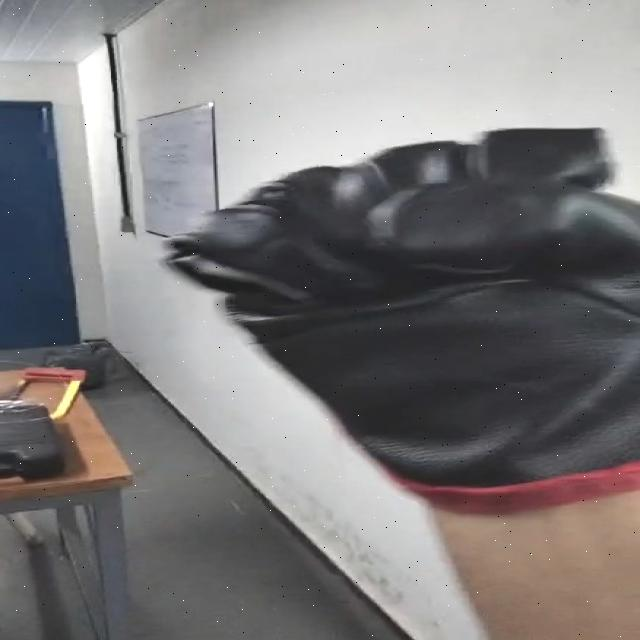Gloves: (160, 124, 640, 519)
